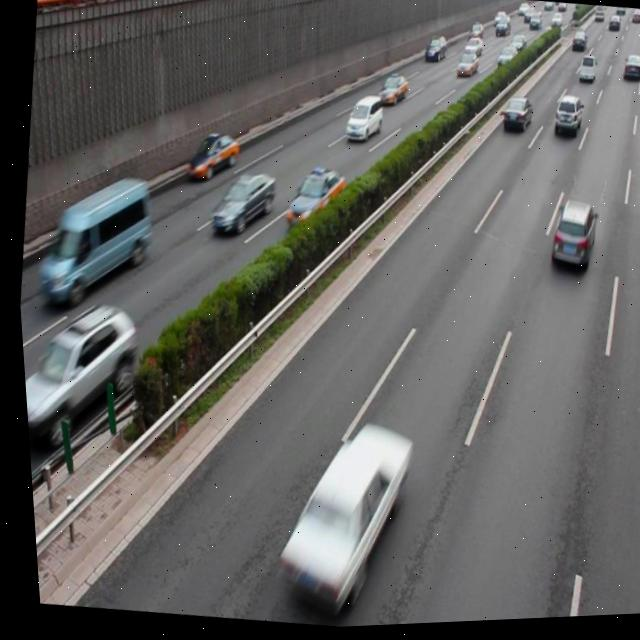car: (251, 414, 415, 628), (16, 295, 139, 453), (203, 166, 276, 242), (276, 165, 346, 236), (540, 200, 596, 279), (180, 128, 240, 187), (495, 97, 532, 141), (547, 97, 581, 144), (372, 74, 407, 110)
truck: (27, 167, 156, 314), (339, 93, 383, 148)
